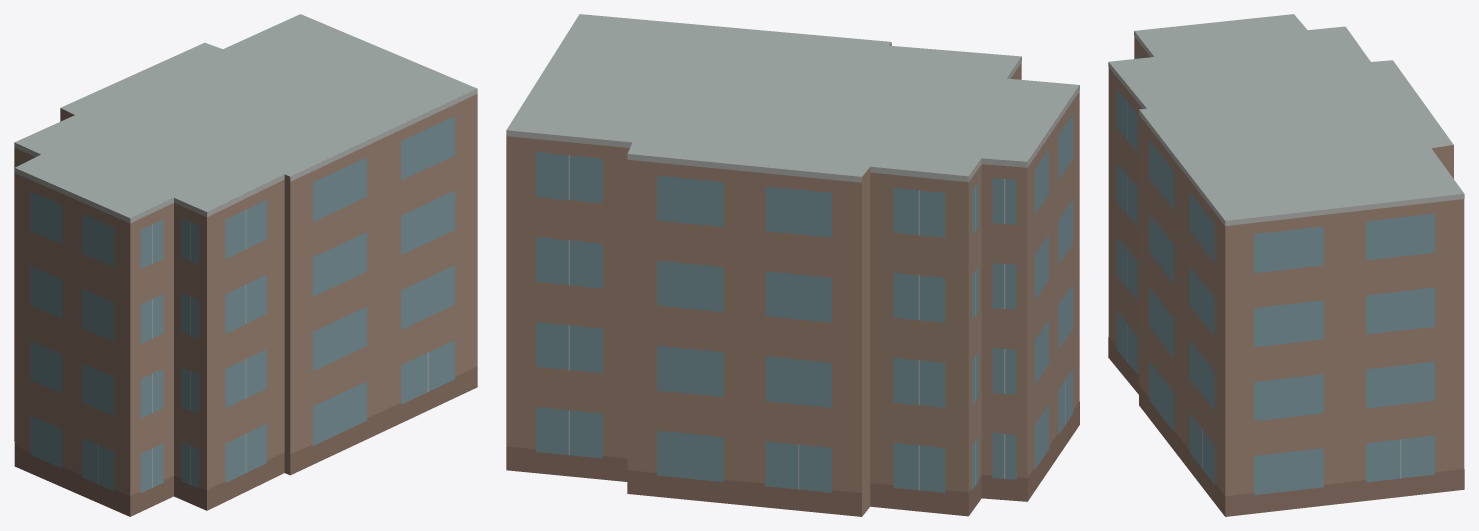
File: survey-upis-32688349.glb
3 views of the same model, side by side, from view 1: azimuth 30°, elevation 25°; view 2: azimuth 150°, elevation 25°; view 3: azimuth 270°, elevation 25° (orthographic). The views are drawn at different scales.
Parts seen in each view (by area): view 1: survey-upis-32688349.tmp; view 2: survey-upis-32688349.tmp; view 3: survey-upis-32688349.tmp.
Boxes of the visible parts, bbox=[...] form: survey-upis-32688349.tmp: bbox=[14, 14, 477, 516]; survey-upis-32688349.tmp: bbox=[506, 14, 1079, 516]; survey-upis-32688349.tmp: bbox=[1108, 14, 1464, 516].
Bounding box in the file's own units: 21.17 × 14.1 × 15.39.
